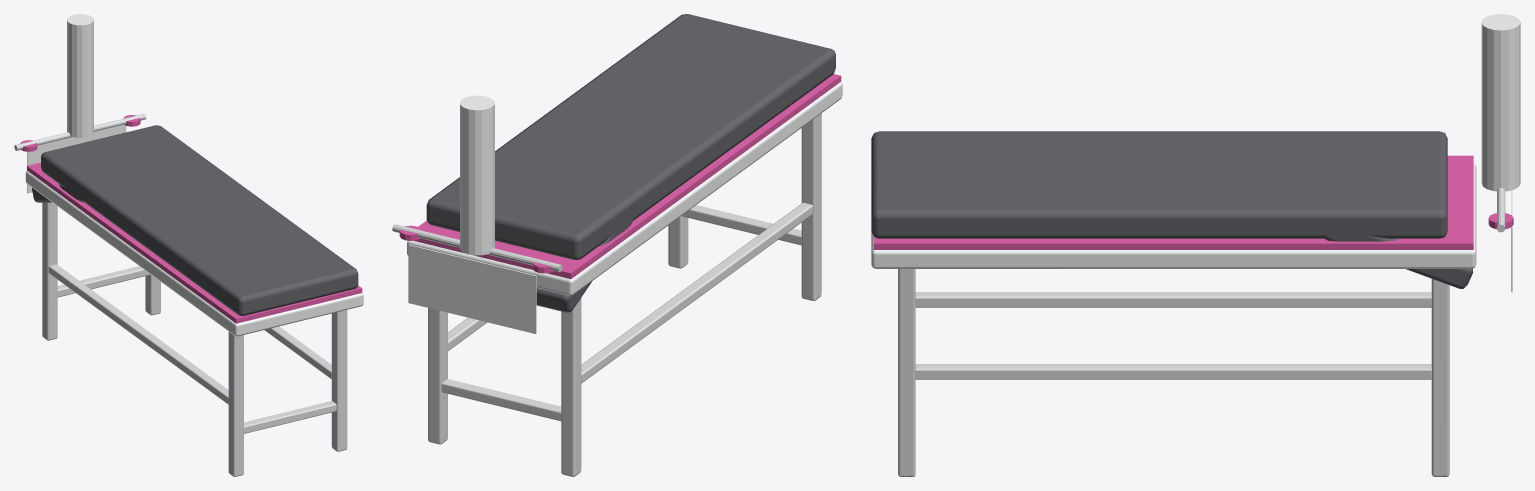
The model's file is tattoo-and-piercing-studio-piercing-bed-fb687174__34532.glb.
The picture shows the model from 3 angles, left to right: view 1: azimuth 30°, elevation 25°; view 2: azimuth 150°, elevation 25°; view 3: azimuth 270°, elevation 25°; orthographic projection. The views are drawn at different scales.
Parts seen in each view (by area): view 1: piercing-bed; view 2: piercing-bed; view 3: piercing-bed.
Boxes of the visible parts, x1,y1,x2,y2 form: piercing-bed: (14,14,363,476); piercing-bed: (392,14,842,476); piercing-bed: (871,14,1520,476).
Bounding box in the file's own units: 0.6 × 1.29 × 1.83.
